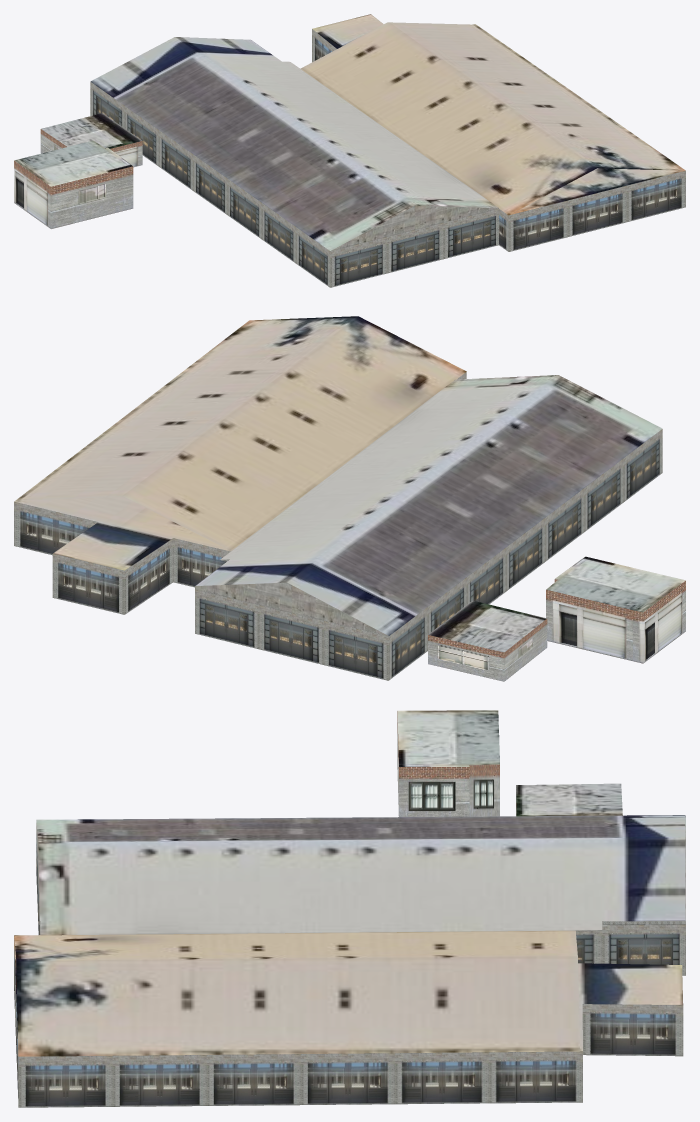
File: tile_LOD8_r5_c5.glb
3 renders of one model, top to bottom at view 1: azimuth 30°, elevation 25°; view 2: azimuth 150°, elevation 25°; view 3: azimuth 270°, elevation 25°, orthographic. The views are drawn at different scales.
Size of the model in its own units: 49.83 by 5.85 by 41.78.
Materials: 12 (12 with a texture image).
